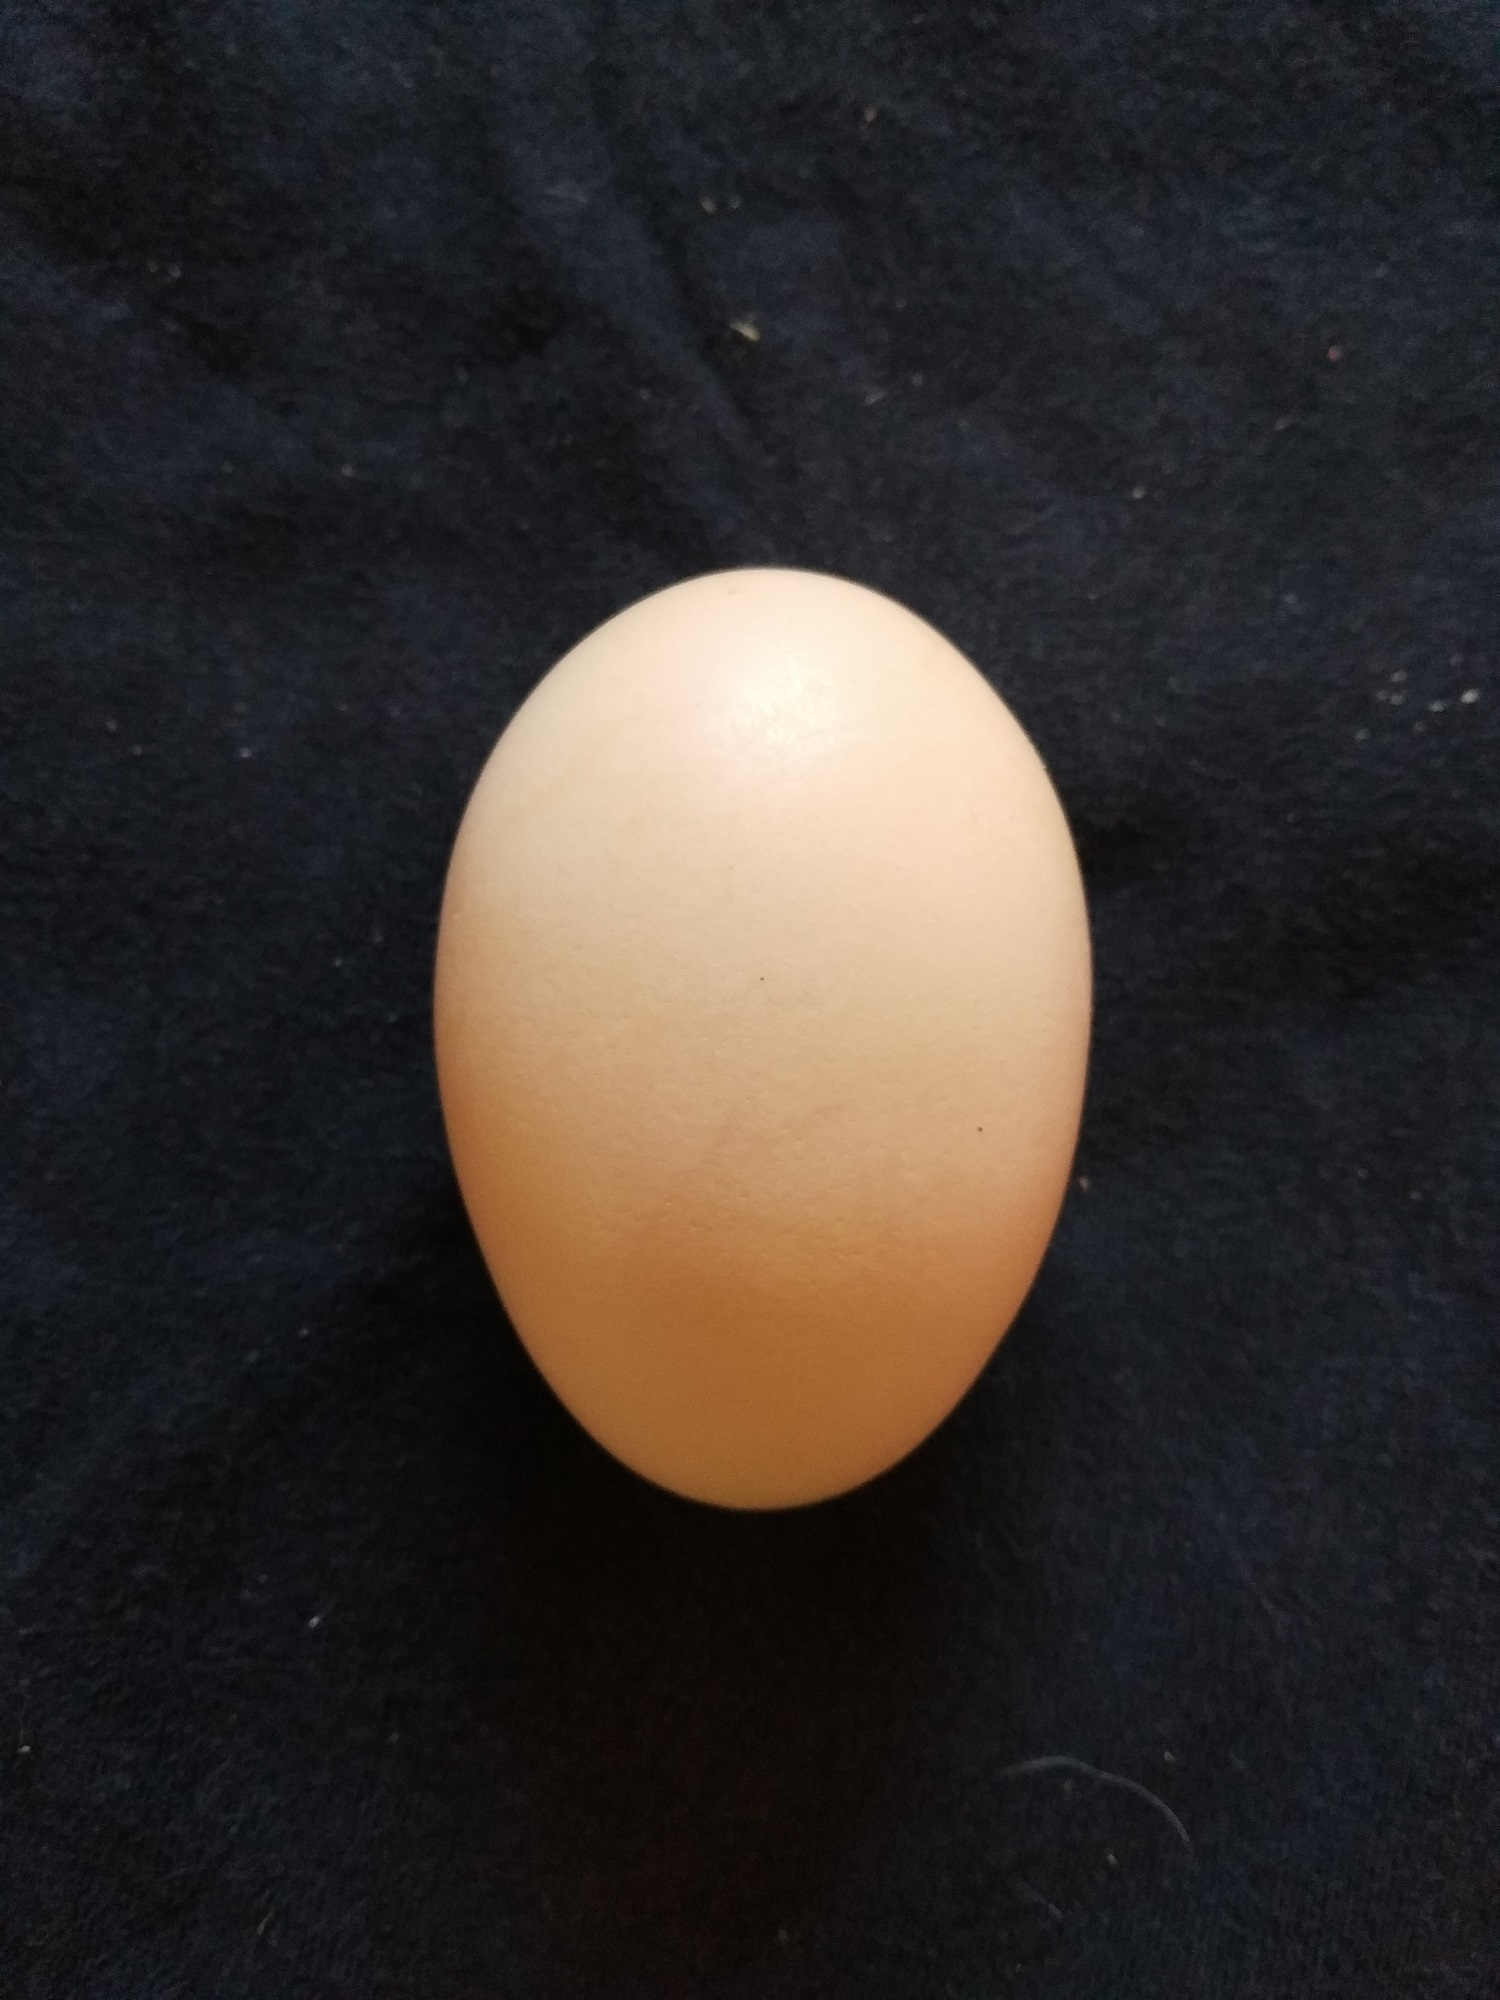Male: (422, 554, 1101, 1518)
